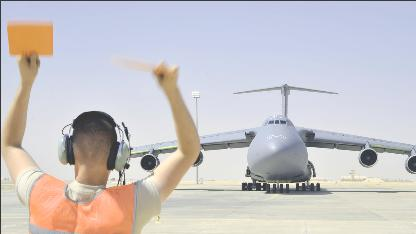C17: (129, 82, 415, 192)
